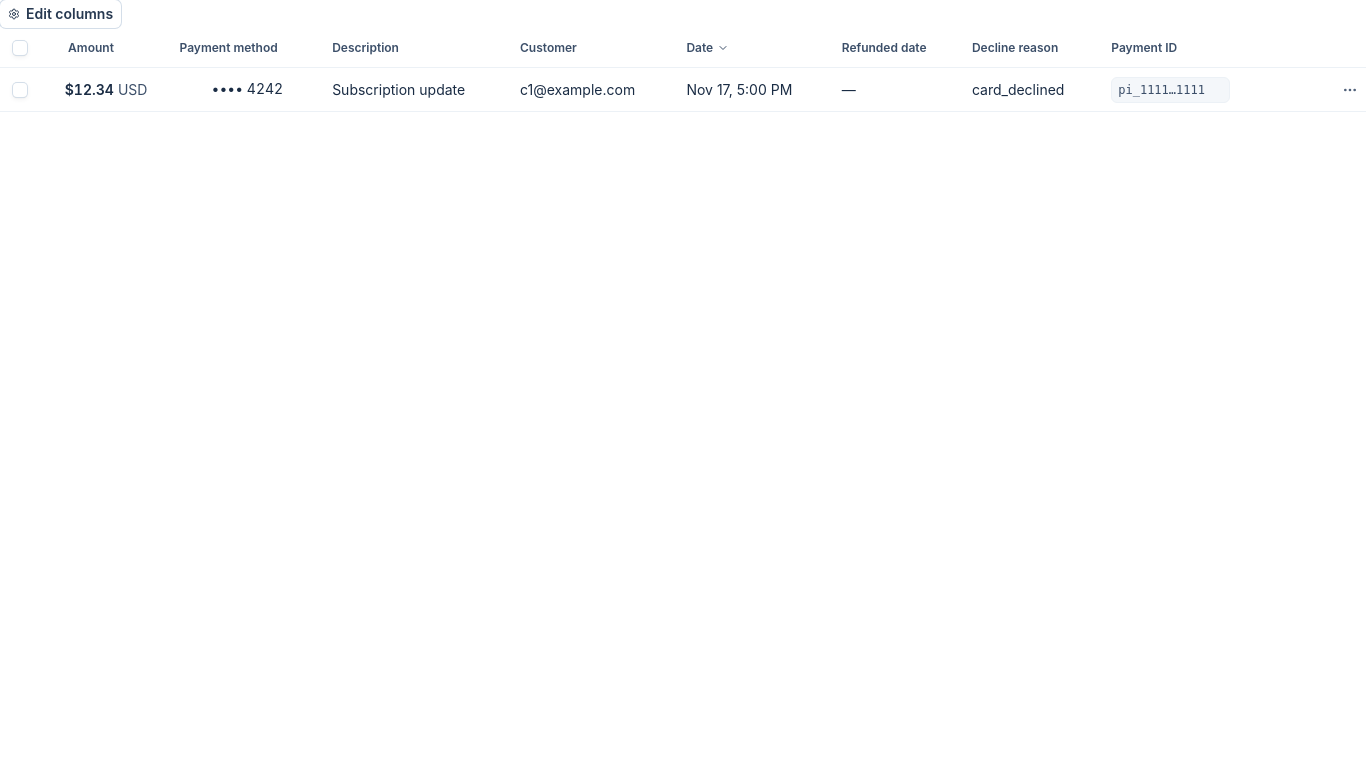
Test: Edit columns › reads saved settings on mount
Check: the text "card_declined" is shown, box [972,81,1064,98]
Click the button "Edit columns" at [61, 14], box [0,0,121,28]
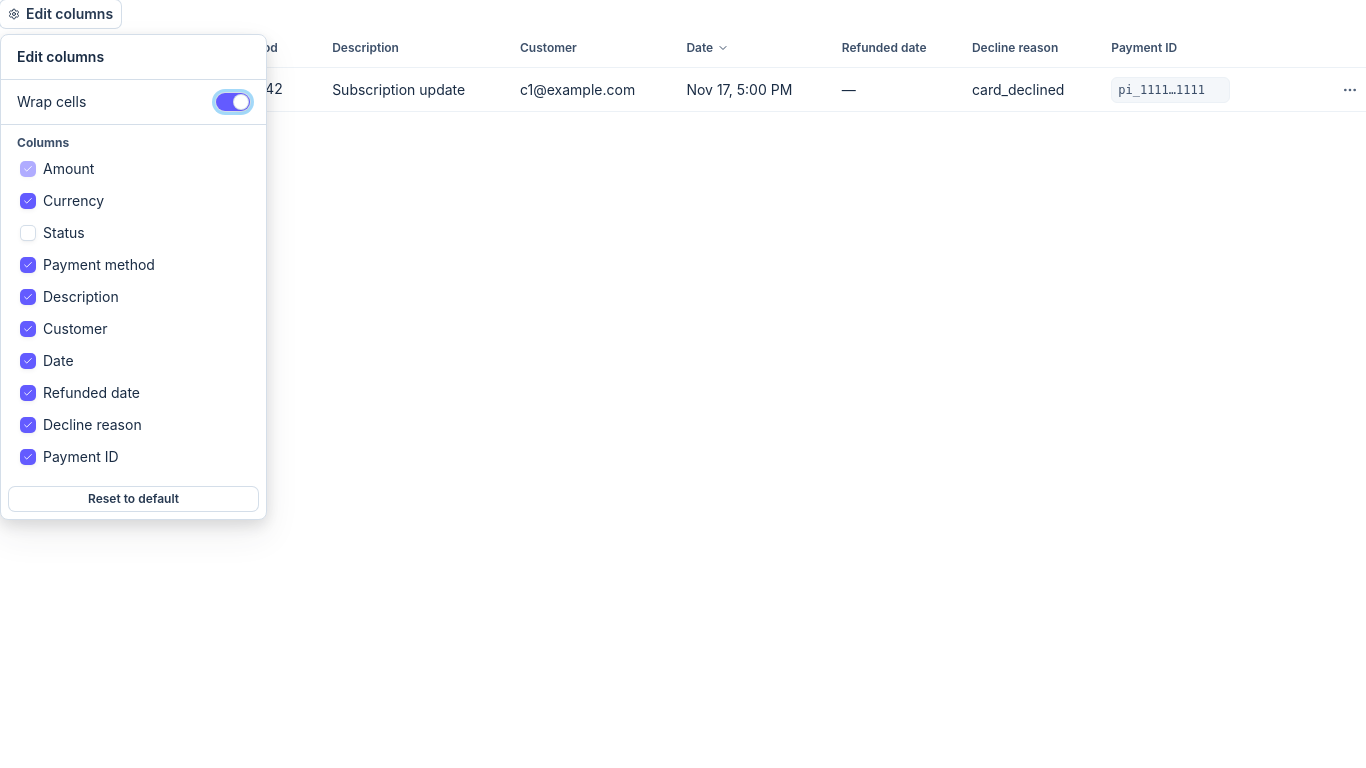
Check: the checkbox named "Status" is not checked, box [21,226,35,240]
